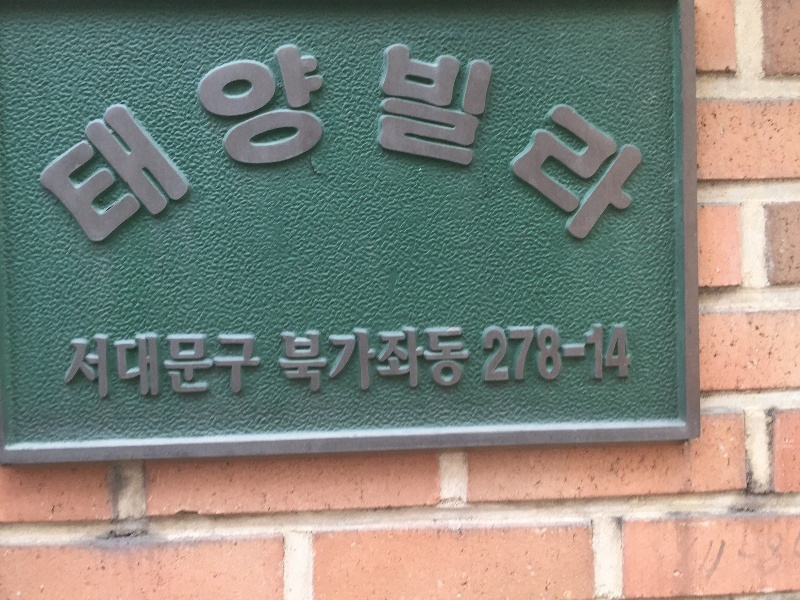text: (49, 41, 64, 246), (65, 41, 80, 246), (81, 41, 96, 246), (97, 41, 112, 246), (113, 41, 128, 246), (129, 41, 144, 246), (145, 41, 160, 246), (161, 41, 176, 246), (177, 41, 192, 246), (193, 41, 208, 246), (209, 41, 224, 246), (225, 41, 240, 246), (241, 41, 256, 246), (257, 41, 272, 246), (273, 41, 288, 246), (289, 41, 304, 246), (305, 41, 320, 246), (321, 41, 336, 246), (337, 41, 352, 246), (353, 41, 368, 246), (369, 41, 384, 246), (385, 41, 400, 246), (401, 41, 416, 246), (417, 41, 432, 246), (433, 41, 448, 246), (449, 41, 464, 246), (465, 41, 480, 246), (481, 41, 496, 246), (497, 41, 512, 246), (513, 41, 528, 246), (529, 41, 544, 246), (545, 41, 560, 246), (561, 41, 576, 246), (577, 41, 592, 246), (593, 41, 608, 246), (609, 41, 624, 246), (625, 41, 640, 246), (38, 41, 48, 246), (641, 41, 648, 246), (65, 331, 80, 406), (81, 331, 96, 406), (97, 331, 112, 406), (113, 331, 128, 406), (129, 331, 144, 406), (145, 331, 160, 406), (161, 331, 176, 406), (177, 331, 192, 406), (193, 331, 208, 406), (209, 331, 224, 406), (225, 331, 240, 406), (241, 331, 256, 406), (289, 326, 304, 396), (305, 326, 320, 396), (321, 326, 336, 396), (337, 326, 352, 396), (353, 326, 368, 396), (369, 326, 384, 396), (385, 326, 400, 396), (401, 326, 416, 396), (417, 326, 432, 396), (433, 326, 448, 396), (449, 326, 464, 396), (481, 321, 496, 388), (497, 321, 512, 388), (513, 321, 528, 388), (529, 321, 544, 388), (545, 321, 560, 388), (561, 321, 576, 388), (577, 321, 592, 388), (593, 321, 608, 388), (609, 321, 624, 388), (277, 326, 288, 396), (625, 321, 634, 388), (257, 331, 265, 406), (465, 326, 473, 396), (62, 331, 64, 406)
